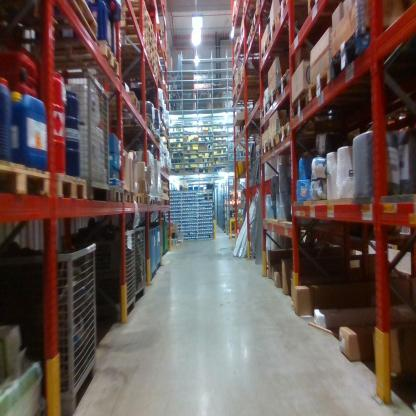pallet: (327, 20, 410, 85), (307, 65, 382, 110), (293, 89, 380, 123), (35, 44, 126, 76), (29, 1, 99, 41), (1, 156, 52, 203), (245, 24, 300, 55), (277, 121, 345, 145), (55, 167, 92, 205), (104, 81, 142, 115), (267, 18, 314, 44), (109, 33, 151, 60), (260, 42, 306, 64), (251, 10, 290, 33), (277, 62, 297, 105), (116, 9, 152, 32), (307, 1, 356, 16), (117, 27, 151, 46), (273, 2, 297, 26), (116, 2, 149, 17), (118, 19, 148, 33), (108, 184, 126, 207), (135, 69, 158, 85), (252, 0, 285, 11), (118, 183, 135, 203), (267, 130, 278, 156), (269, 87, 279, 115), (258, 101, 269, 120), (144, 58, 158, 72), (241, 3, 253, 19), (260, 139, 268, 161), (132, 191, 142, 208), (228, 227, 238, 242), (146, 194, 156, 207), (139, 189, 148, 203), (173, 240, 184, 249), (156, 193, 161, 210), (161, 198, 165, 210)
stillage: (7, 237, 101, 413), (88, 229, 137, 316), (132, 217, 152, 299)
